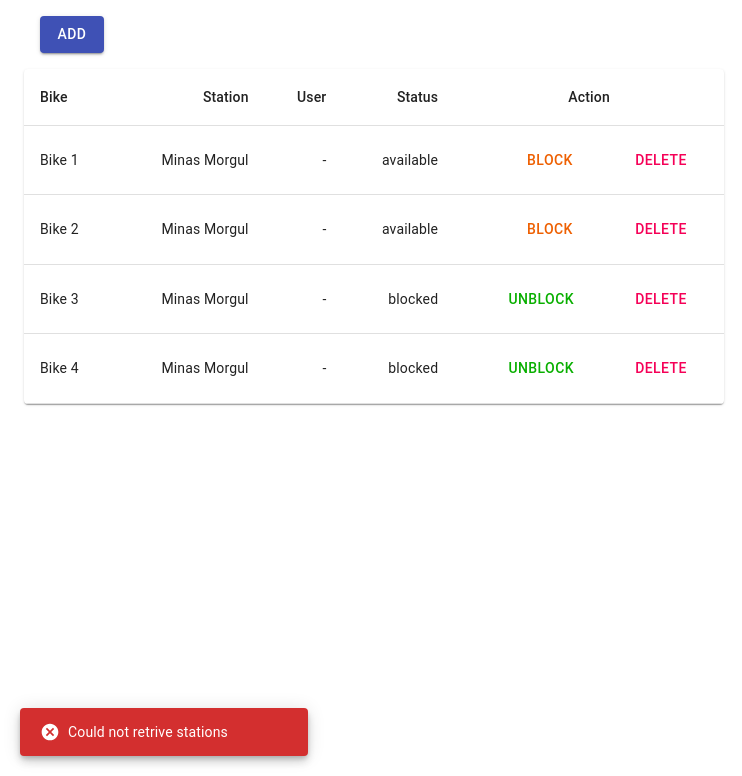
Test: Clicking block changes bike status
Step 1. Click the 1st button "Block" → (550, 160), box x1=518 y1=142 x2=582 y2=178
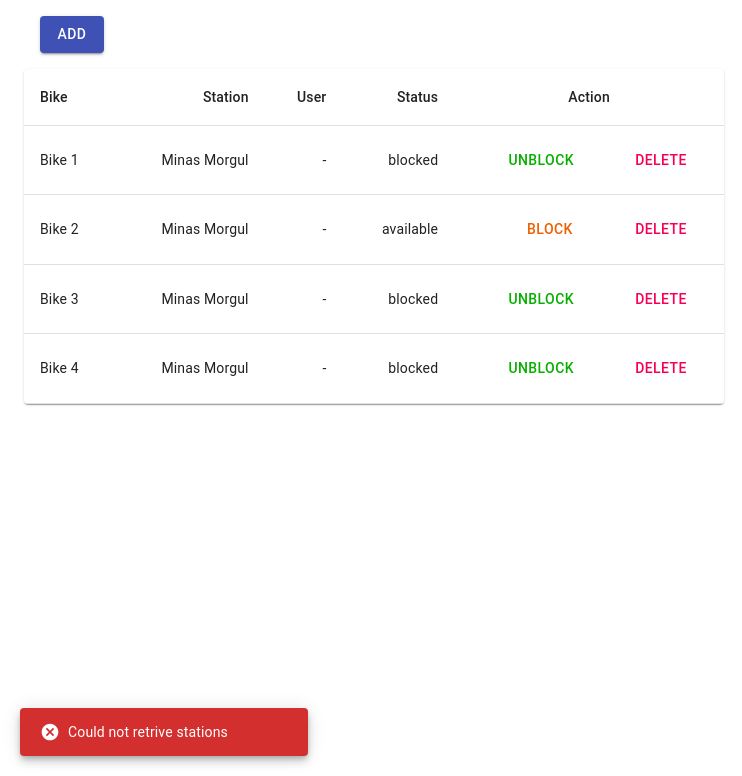
Check: the 1st cell "blocked" is shown, box x1=342 y1=125 x2=454 y2=194
